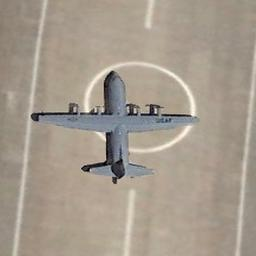Airplane: (34, 67, 200, 188)
